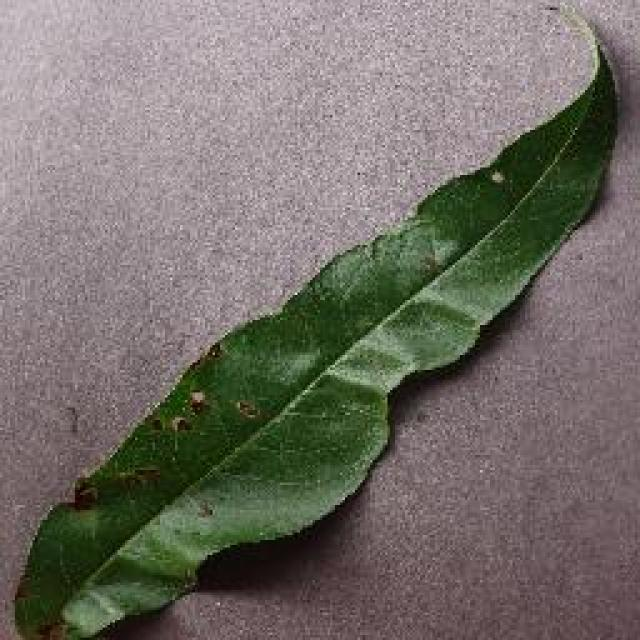Bacterial_spot: (194, 388, 292, 438), (183, 480, 230, 538)
